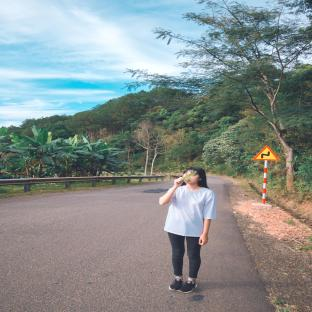Human: (159, 167, 217, 293)
